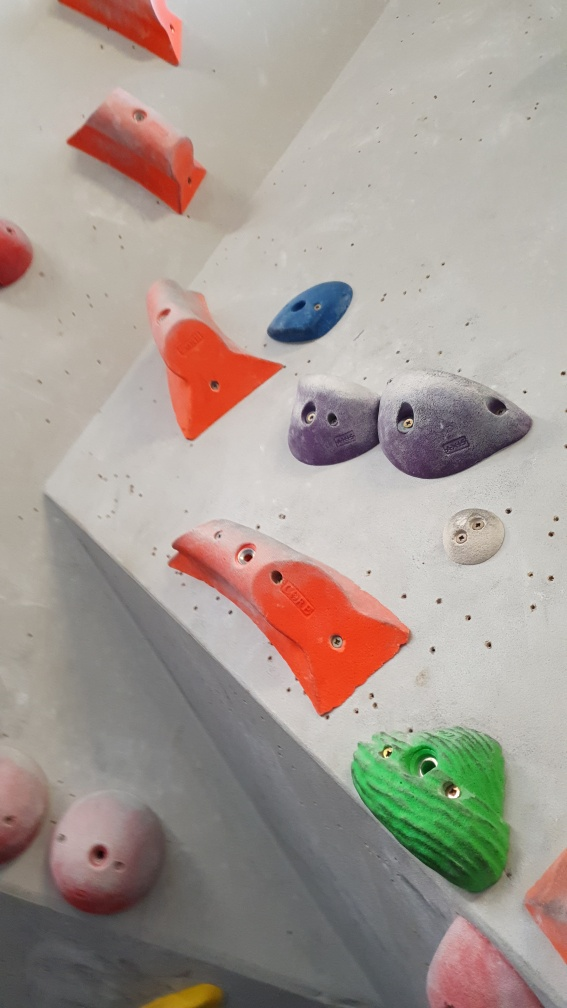Crimp: (267, 280, 356, 343)
Jug: (351, 727, 513, 893), (375, 370, 540, 484), (283, 372, 386, 467)
Pinch: (166, 515, 414, 717), (146, 276, 284, 439), (67, 89, 210, 214), (54, 1, 187, 73)
Sloper: (49, 788, 174, 920), (1, 744, 53, 870)
